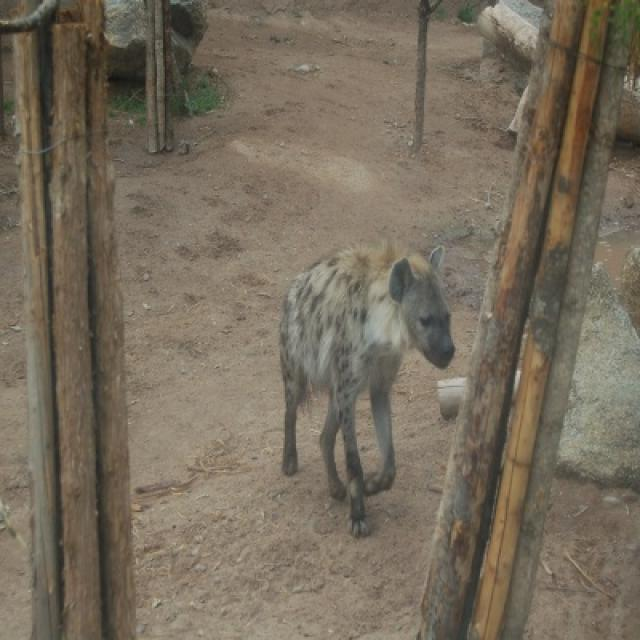hyena: (280, 243, 456, 538)
